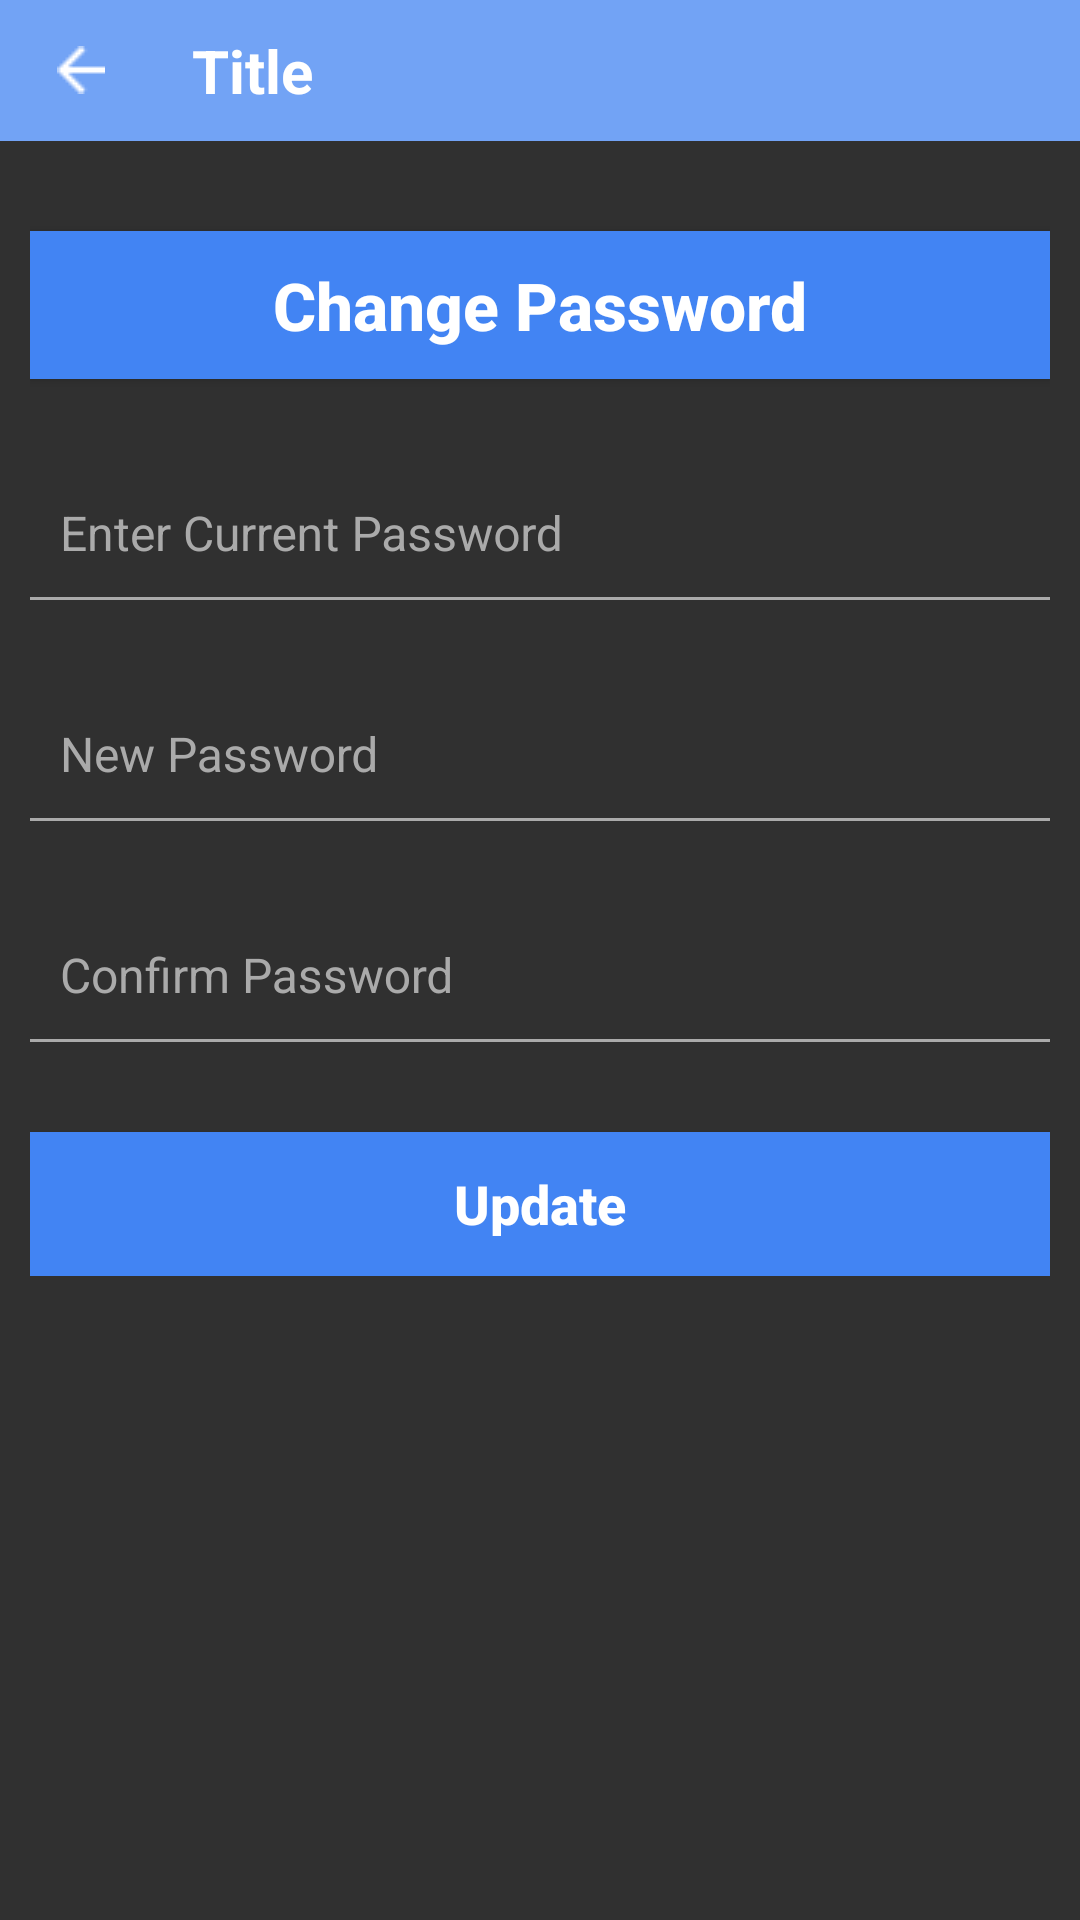

Icon bounding boxes for this 1080*1920 phone screenshot, format (x1, y1, x2, y2):
back: (57, 46, 105, 94)
